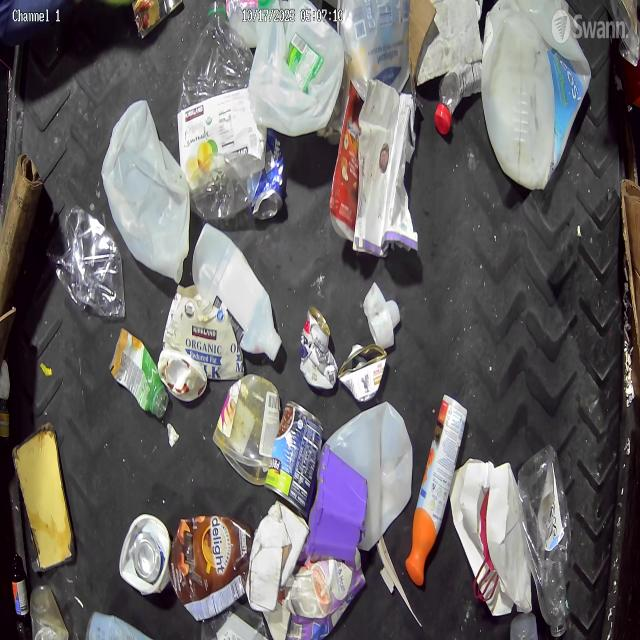can: (264, 400, 323, 519), (299, 303, 339, 391), (249, 128, 284, 220), (340, 343, 386, 403), (131, 0, 183, 40)
milk_jug: (484, 0, 592, 187), (100, 99, 191, 284), (324, 399, 413, 550), (192, 224, 282, 362), (248, 16, 344, 138)
plastic_bottle: (180, 0, 263, 203), (518, 445, 574, 632)
